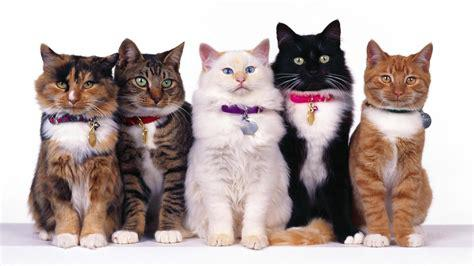cat: (185, 41, 293, 249), (276, 19, 364, 244), (28, 43, 120, 248), (348, 40, 433, 245), (115, 38, 193, 244)
